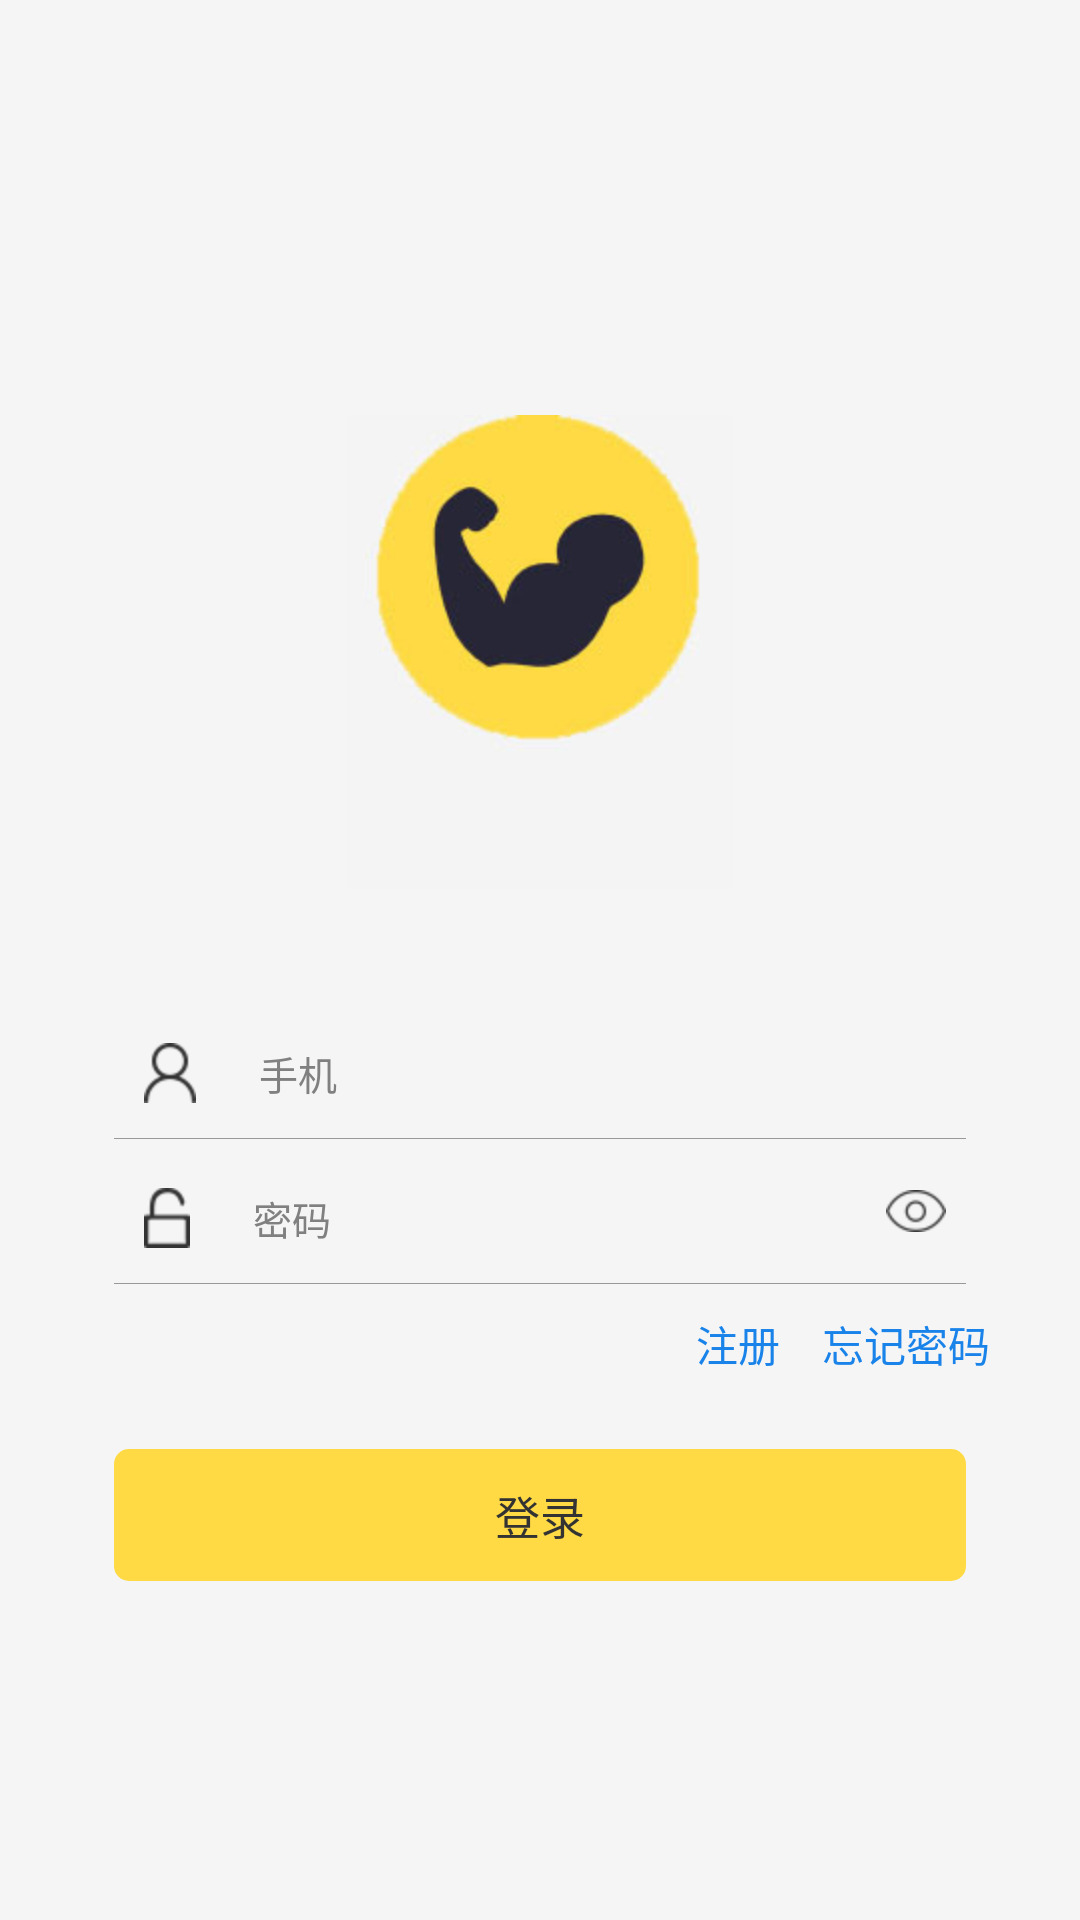

Where to tap for icons on this 1080x1920 app screen, as point (x, y):
eye: point (916, 1211)
